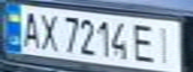1: (93, 17, 112, 59)
2: (75, 16, 96, 56)
4: (109, 19, 133, 61)
7: (57, 12, 81, 54)
A: (15, 8, 42, 50)
E: (130, 20, 160, 64)
I: (151, 22, 181, 65)
X: (36, 10, 60, 52)
